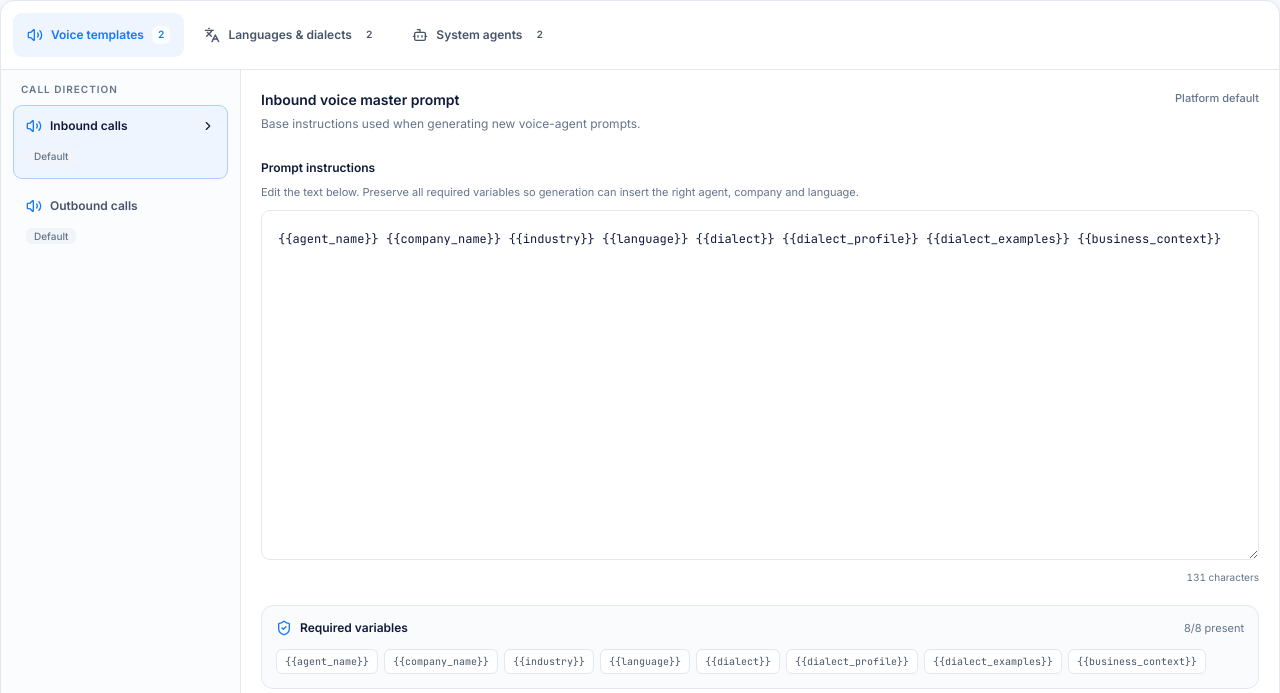
Test: Platform Admin prompt library › adds languages in an inline form, not a browser prompt
The width and height of the screenshot is (1280, 693).
expect the navigation bar named "Prompt categories" is shown: met, box [1,1,1279,70]
Click the button "Languages & dialects 2" at (291, 35), box [190,13,392,57]
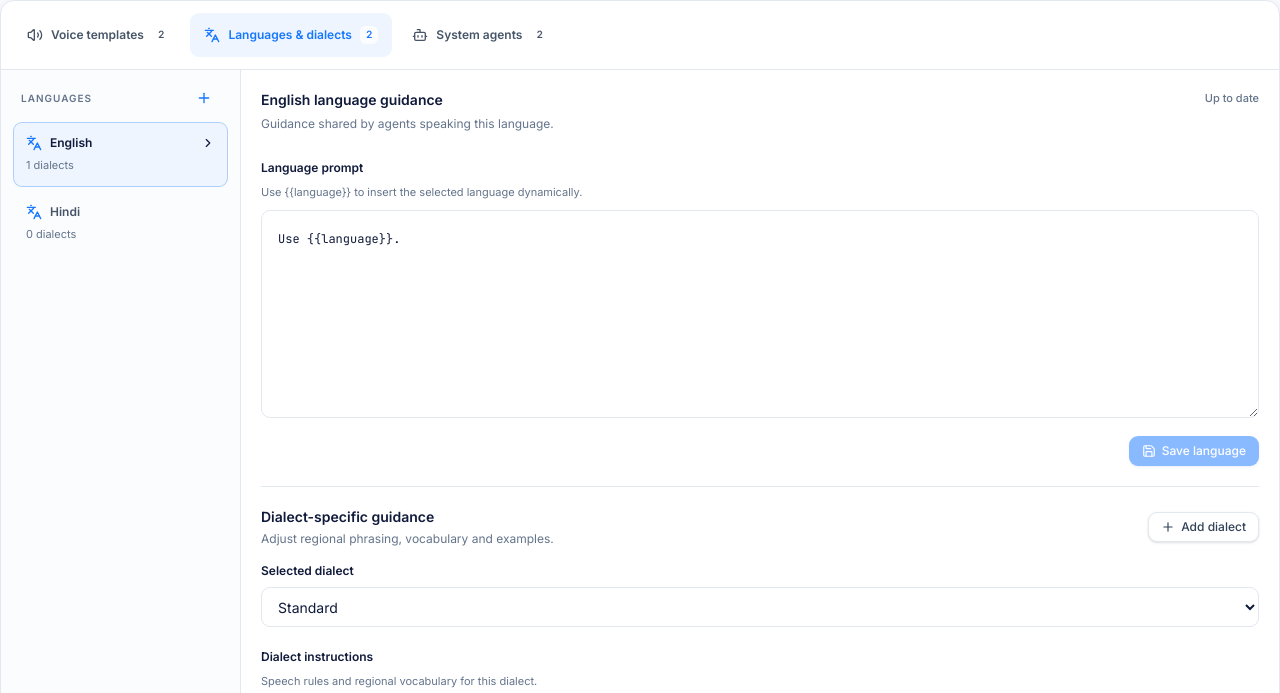
Click the button named "Add language" at (204, 98), box [188,82,220,114]
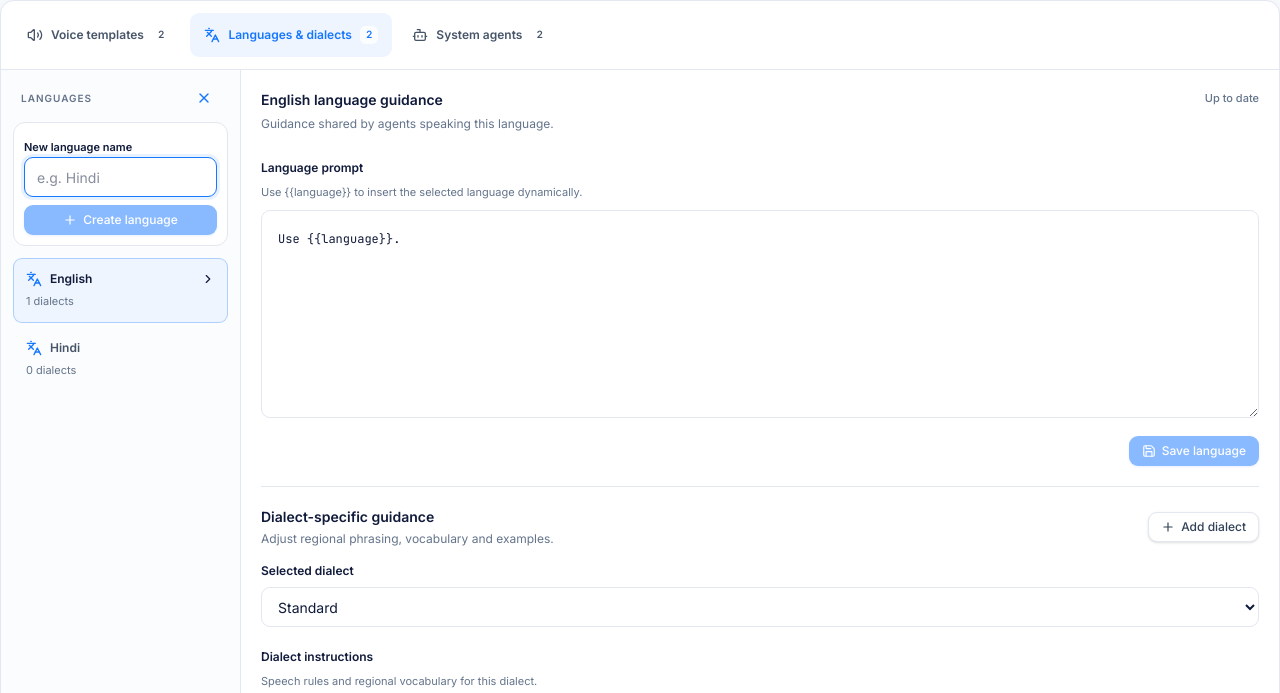
Type "French" into the field labelled "New language name" at (120, 177), box [24,157,217,197]
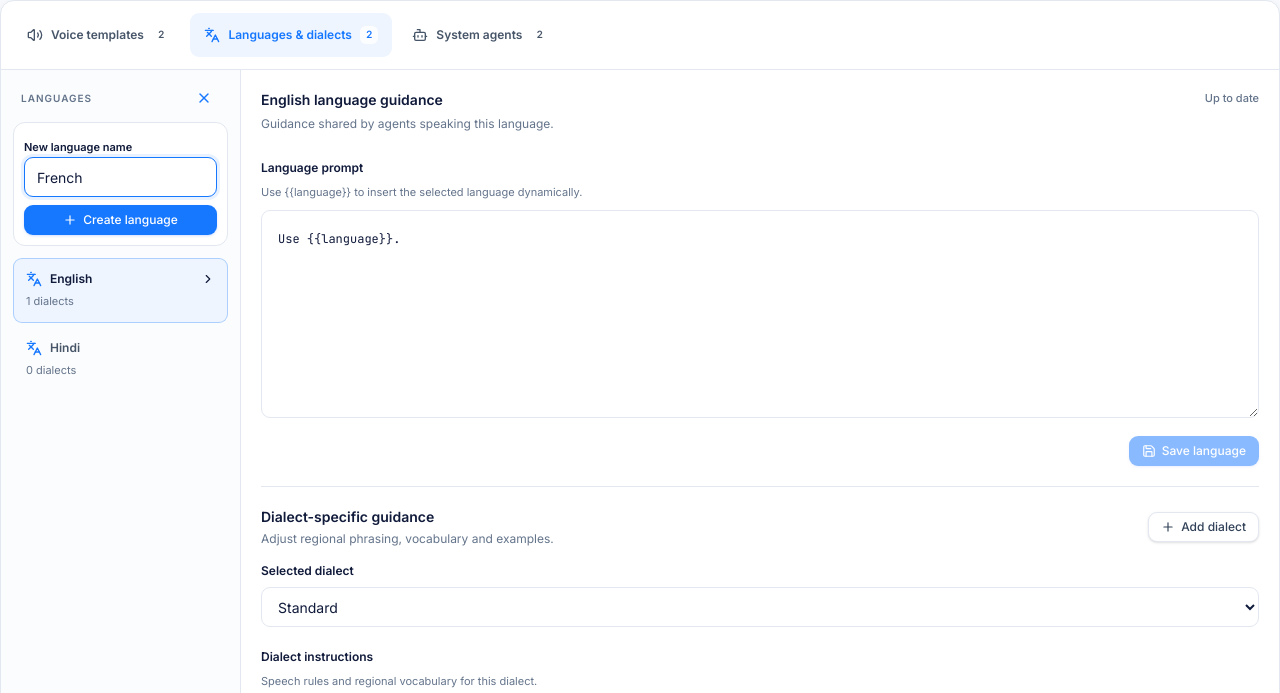
Click the button "Create language" at (120, 220), box [24,205,217,235]
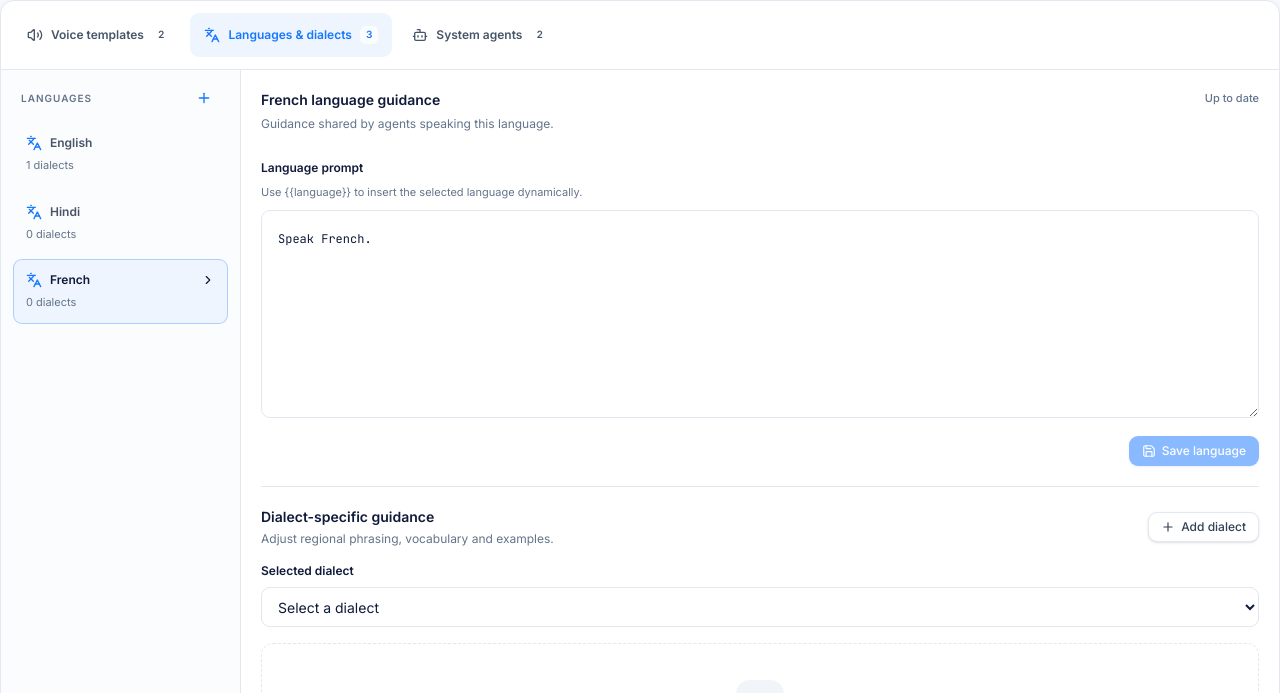
expect the heading "French language guidance" is shown: met, box [261,91,440,108]
